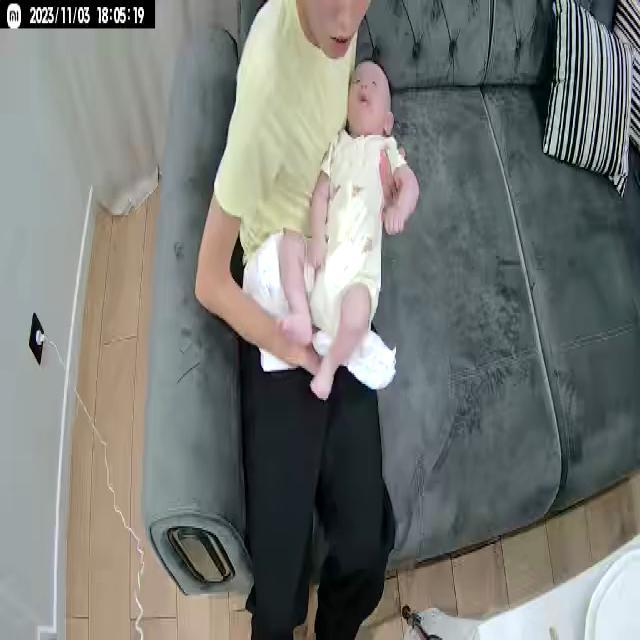baby: (278, 52, 421, 403)
